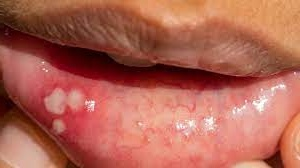Ulcer: (41, 84, 92, 138)
